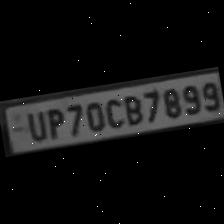0: (80, 97, 106, 132)
7: (62, 100, 86, 138), (140, 87, 163, 124)
8: (158, 84, 184, 120), (119, 92, 145, 126)
9: (196, 78, 222, 113), (178, 81, 202, 116)
C: (101, 94, 125, 130)
P: (42, 104, 68, 140)
U: (22, 108, 48, 142)
